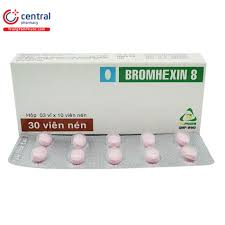Bromhexin: (125, 67, 188, 80)
